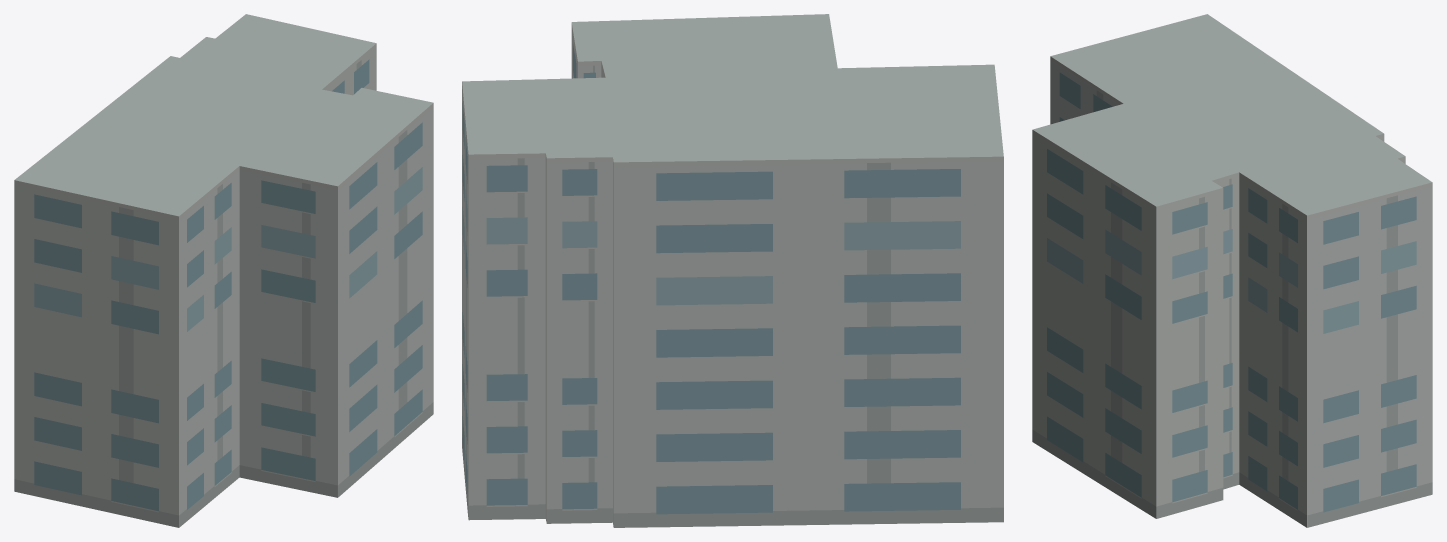
Rendered from survey-upis-32781181.glb.
The picture shows the model from 3 angles, left to right: view 1: azimuth 30°, elevation 25°; view 2: azimuth 150°, elevation 25°; view 3: azimuth 270°, elevation 25°; orthographic projection. The views are drawn at different scales.
Visible parts, largest first — view 1: survey-upis-32781181.tmp; view 2: survey-upis-32781181.tmp; view 3: survey-upis-32781181.tmp.
Part boxes in pixels (x1,y1,x2,y2): survey-upis-32781181.tmp: [14, 14, 433, 527]; survey-upis-32781181.tmp: [462, 14, 1003, 527]; survey-upis-32781181.tmp: [1032, 14, 1432, 527].
Bounding box in the file's own units: 27.72 × 20.02 × 23.25.
